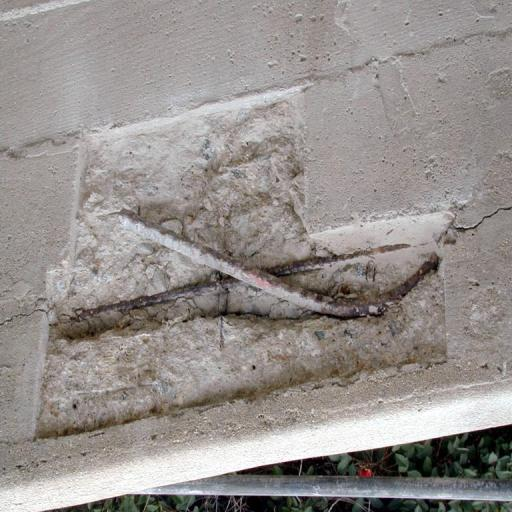spalling: (36, 97, 447, 437), (460, 191, 512, 250)
